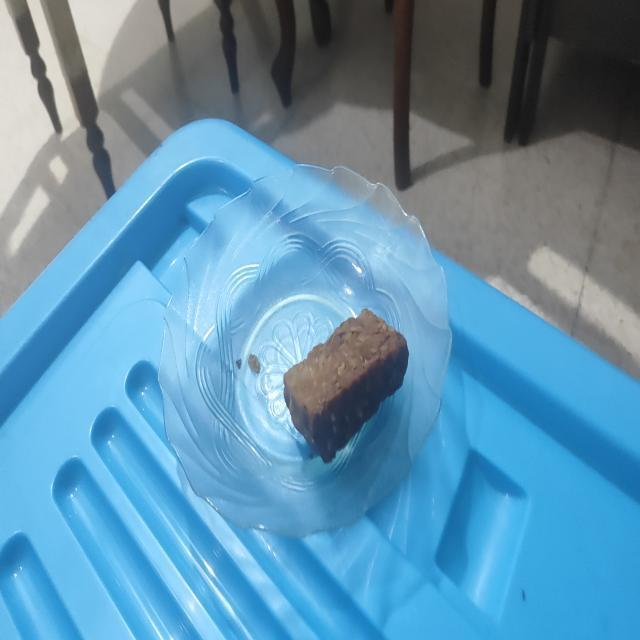tempe_goreng: (284, 308, 408, 462)
